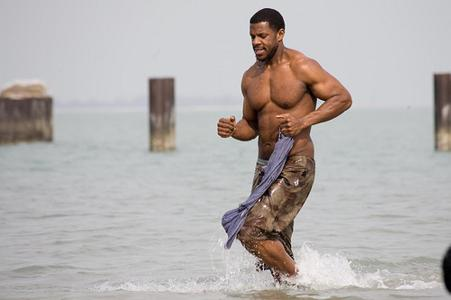person: (220, 8, 355, 286)
